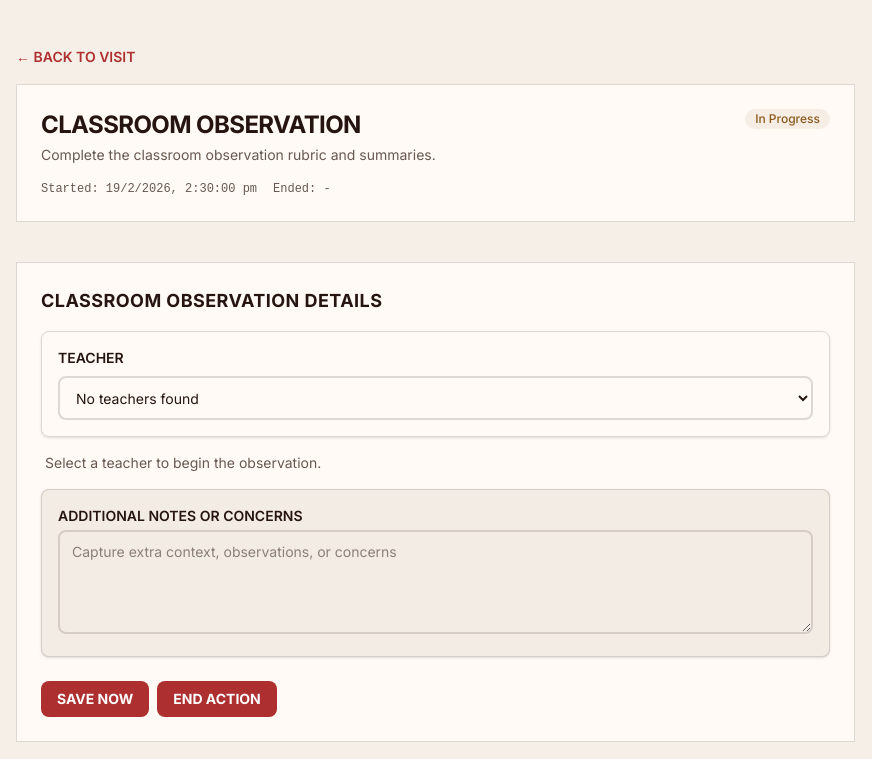
Test: VisitActionDetailPage › shows classroom /end 422 guidance with details
Click the button "End Action" at (217, 699), box [157, 681, 277, 717]
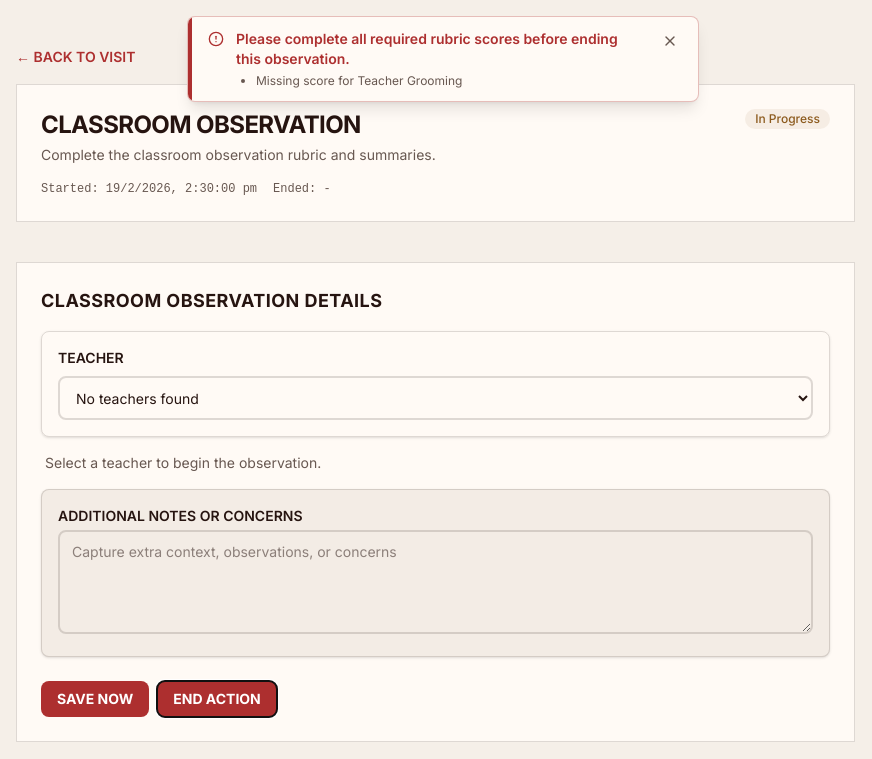
expect the text "Please complete all required rubric scores before ending this observation." is shown: met, box [236, 29, 646, 69]
expect the list item "Missing score for Teacher Grooming" is shown: met, box [256, 73, 462, 88]
